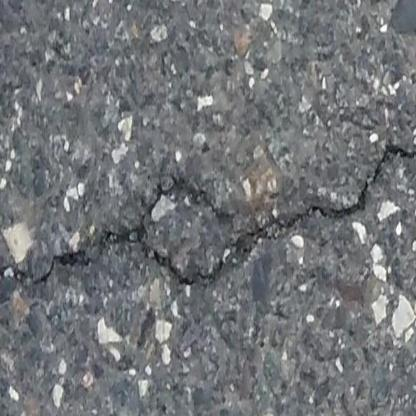Cracks: (0, 121, 416, 302)
